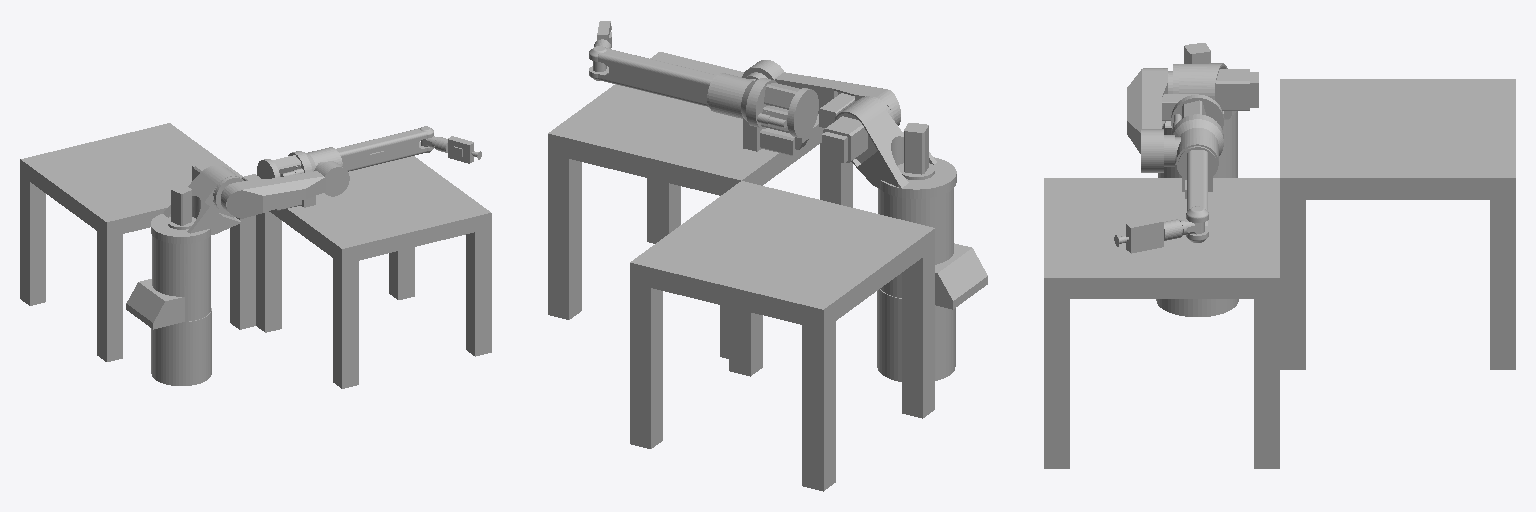
The robot description file, URDF, robot "rv6l_cell":
<?xml version="1.0" encoding="utf-8"?>
<!-- This URDF was automatically created by SolidWorks to URDF Exporter! Originally created by [author] ([email redacted]) 
     Commit Version: 1.6.0-1-g15f4949  Build Version: 1.6.7594.29634
     For more information, please see http://wiki.ros.org/sw_urdf_exporter -->
<robot
  name="rv6l_cell">
  <link
    name="RV6L_1">

    <visual>
      <origin
        xyz="0 0 0"
        rpy="0 0 0" />
      <geometry>
        <mesh
          filename="package://rv6l_cell/meshes/RV6L_1.STL" />
      </geometry>
      <material
        name="">
        <color
          rgba="0.75294 0.75294 0.75294 1" />
      </material>
    </visual>
    <collision>
      <origin
        xyz="0 0 0"
        rpy="0 0 0" />
      <geometry>
        <mesh
          filename="package://rv6l_cell/meshes/RV6L_1.STL" />
      </geometry>
    </collision>
  </link>
  <link
    name="RV6L_2">
    <inertial>
      <origin
        xyz="0.16779 0.019758 0.13471"
        rpy="0 0 0" />
      <mass
        value="23.489" />
      <inertia
        ixx="0.31629"
        ixy="-0.016755"
        ixz="-0.072157"
        iyy="0.28925"
        iyz="-0.023028"
        izz="0.37089" />
    </inertial>
    <visual>
      <origin
        xyz="0 0 0"
        rpy="0 0 0" />
      <geometry>
        <mesh
          filename="package://rv6l_cell/meshes/RV6L_2.STL" />
      </geometry>
      <material
        name="">
        <color
          rgba="0.75294 0.75294 0.75294 1" />
      </material>
    </visual>
    <collision>
      <origin
        xyz="0 0 0"
        rpy="0 0 0" />
      <geometry>
        <mesh
          filename="package://rv6l_cell/meshes/RV6L_2.STL" />
      </geometry>
    </collision>
  </link>
  <joint
    name="Joint_1"
    type="revolute">
    <origin
      xyz="0 0 0.912"
      rpy="0 0 0" />
    <parent
      link="RV6L_1" />
    <child
      link="RV6L_2" />
    <axis
      xyz="0 0 1" />
    <limit
      lower="-3.1"
      upper="2.6"
      effort="0"
      velocity="2.4" />
  </joint>
  <link
    name="RV6L_3">
    <inertial>
      <origin
        xyz="0.27967 5.116E-07 -0.19021"
        rpy="0 0 0" />
      <mass
        value="15.986" />
      <inertia
        ixx="0.077323"
        ixy="1.5334E-06"
        ixz="0.027022"
        iyy="0.39281"
        iyz="1.9081E-07"
        izz="0.37023" />
    </inertial>
    <visual>
      <origin
        xyz="0 0 0"
        rpy="0 0 0" />
      <geometry>
        <mesh
          filename="package://rv6l_cell/meshes/RV6L_3.STL" />
      </geometry>
      <material
        name="">
        <color
          rgba="0.75294 0.75294 0.75294 1" />
      </material>
    </visual>
    <collision>
      <origin
        xyz="0 0 0"
        rpy="0 0 0" />
      <geometry>
        <mesh
          filename="package://rv6l_cell/meshes/RV6L_3.STL" />
      </geometry>
    </collision>
  </link>
  <joint
    name="Joint_2"
    type="revolute">
    <origin
      xyz="0.28 0 0.203"
      rpy="-1.5707963267949 0 0" />
    <parent
      link="RV6L_2" />
    <child
      link="RV6L_3" />
    <axis
      xyz="0 0 1" />
    <limit
      lower="-2.1"
      upper="0.5"
      effort="0"
      velocity="2.4" />
  </joint>
  <link
    name="RV6L_4">
    <inertial>
      <origin
        xyz="-0.077717 0.035209 -0.0022469"
        rpy="0 0 0" />
      <mass
        value="11.715" />
      <inertia
        ixx="0.10043"
        ixy="0.041936"
        ixz="0.0012714"
        iyy="0.12376"
        iyz="-0.0010465"
        izz="0.16916" />
    </inertial>
    <visual>
      <origin
        xyz="0 0 0"
        rpy="0 0 0" />
      <geometry>
        <mesh
          filename="package://rv6l_cell/meshes/RV6L_4.STL" />
      </geometry>
      <material
        name="">
        <color
          rgba="0.75294 0.75294 0.75294 1" />
      </material>
    </visual>
    <collision>
      <origin
        xyz="0 0 0"
        rpy="0 0 0" />
      <geometry>
        <mesh
          filename="package://rv6l_cell/meshes/RV6L_4.STL" />
      </geometry>
    </collision>
  </link>
  <joint
    name="Joint_3"
    type="revolute">
    <origin
      xyz="0.615 0 0"
      rpy="0 0 0" />
    <parent
      link="RV6L_3" />
    <child
      link="RV6L_4" />
    <axis
      xyz="0 0 1" />
    <limit
      lower="-2"
      upper="2.6"
      effort="0"
      velocity="2.4" />
  </joint>
  <link
    name="RV6L_5">
    <inertial>
      <origin
        xyz="0.25644 -0.00019106 -1.1102E-16"
        rpy="0 0 0" />
      <mass
        value="10.468" />
      <inertia
        ixx="0.019196"
        ixy="-5.0133E-05"
        ixz="1.8928E-16"
        iyy="0.22409"
        iyz="-9.3311E-06"
        izz="0.21864" />
    </inertial>
    <visual>
      <origin
        xyz="0 0 0"
        rpy="0 0 0" />
      <geometry>
        <mesh
          filename="package://rv6l_cell/meshes/RV6L_5.STL" />
      </geometry>
      <material
        name="">
        <color
          rgba="0.75294 0.75294 0.75294 1" />
      </material>
    </visual>
    <collision>
      <origin
        xyz="0 0 0"
        rpy="0 0 0" />
      <geometry>
        <mesh
          filename="package://rv6l_cell/meshes/RV6L_5.STL" />
      </geometry>
    </collision>
  </link>
  <joint
    name="Joint_4"
    type="revolute">
    <origin
      xyz="0 0 0"
      rpy="1.5708 0 0" />
    <parent
      link="RV6L_4" />
    <child
      link="RV6L_5" />
    <axis
      xyz="1 0 0" />
    <limit
      lower="-3.0"
      upper="3.0"
      effort="0"
      velocity="4.6" />
  </joint>
  <link
    name="RV6L_6">
    <inertial>
      <origin
        xyz="0.031554 -2.5733E-08 1.05E-05"
        rpy="0 0 0" />
      <mass
        value="0.38498" />
      <inertia
        ixx="0.0002071"
        ixy="8.2504E-12"
        ixz="-2.643E-07"
        iyy="0.00053065"
        iyz="3.3213E-12"
        izz="0.0005245" />
    </inertial>
    <visual>
      <origin
        xyz="0 0 0"
        rpy="0 0 0" />
      <geometry>
        <mesh
          filename="package://rv6l_cell/meshes/RV6L_6.STL" />
      </geometry>
      <material
        name="">
        <color
          rgba="0.75294 0.75294 0.75294 1" />
      </material>
    </visual>
    <collision>
      <origin
        xyz="0 0 0"
        rpy="0 0 0" />
      <geometry>
        <mesh
          filename="package://rv6l_cell/meshes/RV6L_6.STL" />
      </geometry>
    </collision>
  </link>
  <joint
    name="Joint_5"
    type="revolute">
    <origin
      xyz="0.74 0 0"
      rpy="0 0 0" />
    <parent
      link="RV6L_5" />
    <child
      link="RV6L_6" />
    <axis
      xyz="0 0 1" />
    <limit
      lower="-2.1"
      upper="-0.15"
      effort="0"
      velocity="4.6" />
  </joint>
  <link
    name="RV6L_Greifer_Sauger">
    <inertial>
      <origin
        xyz="-0.00064473 -1.1102E-16 0.12636"
        rpy="0 0 0" />
      <mass
        value="1.3959" />
      <inertia
        ixx="0.0079992"
        ixy="1.5755E-19"
        ixz="2.8024E-05"
        iyy="0.0070973"
        iyz="8.5185E-18"
        izz="0.0016686" />
    </inertial>
    <visual>
      <origin
        xyz="0 0 0"
        rpy="0 0 0" />
      <geometry>
        <mesh
          filename="package://rv6l_cell/meshes/RV6L_Greifer_Sauger.STL" />
      </geometry>
      <material
        name="">
        <color
          rgba="0.75294 0.75294 0.75294 1" />
      </material>
    </visual>
    <collision>
      <origin
        xyz="0 0 0"
        rpy="0 0 0" />
      <geometry>
        <mesh
          filename="package://rv6l_cell/meshes/RV6L_Greifer_Sauger.STL" />
      </geometry>
    </collision>
  </link>
  <joint
    name="Joint_6"
    type="revolute">
    <origin
      xyz="0.0899999999999996 0 0"
      rpy="1.5707963267949 0 1.5707963267949" />
    <parent
      link="RV6L_6" />
    <child
      link="RV6L_Greifer_Sauger" />
    <axis
      xyz="0 0 1" />
    <limit
      lower="-6.2"
      upper="6.2"
      effort="0"
      velocity="6.9" />
  </joint>
</robot>

--- Render facts (derived) ---
The picture shows the robot from 3 angles, left to right: view 1: azimuth 30°, elevation 25°; view 2: azimuth 150°, elevation 25°; view 3: azimuth 270°, elevation 25°; orthographic projection.
Robot: rv6l_cell — 7 links, 6 joints (6 revolute); root link RV6L_1; default pose: all joints at 0 but 1 set to mid-range because 0 is outside their limits (Joint_5 = -1.12).
Visible links, largest first — view 1: RV6L_1, RV6L_2, RV6L_3, RV6L_5, RV6L_4, RV6L_Greifer_Sauger; view 2: RV6L_1, RV6L_2, RV6L_5, RV6L_4, RV6L_3; view 3: RV6L_1, RV6L_3, RV6L_2, RV6L_5, RV6L_4, RV6L_Greifer_Sauger.
Link boxes in pixels (bbox=[...]): RV6L_1: bbox=[20, 123, 491, 388]; RV6L_2: bbox=[151, 162, 243, 243]; RV6L_3: bbox=[221, 161, 349, 218]; RV6L_5: bbox=[272, 126, 433, 176]; RV6L_4: bbox=[257, 147, 341, 210]; RV6L_Greifer_Sauger: bbox=[435, 136, 481, 163]; RV6L_1: bbox=[548, 52, 987, 491]; RV6L_2: bbox=[822, 96, 956, 198]; RV6L_5: bbox=[589, 46, 799, 132]; RV6L_4: bbox=[709, 73, 818, 155]; RV6L_3: bbox=[742, 60, 900, 127]; RV6L_1: bbox=[1044, 79, 1515, 468]; RV6L_3: bbox=[1127, 68, 1198, 172]; RV6L_2: bbox=[1165, 43, 1258, 128]; RV6L_5: bbox=[1173, 100, 1216, 242]; RV6L_4: bbox=[1171, 95, 1223, 191]; RV6L_Greifer_Sauger: bbox=[1114, 217, 1181, 253].
Size in the robot's own frame: 2.12 by 2 by 1.23 metres.
7 mesh visuals loaded from 7 distinct referenced files (7 binary STL).